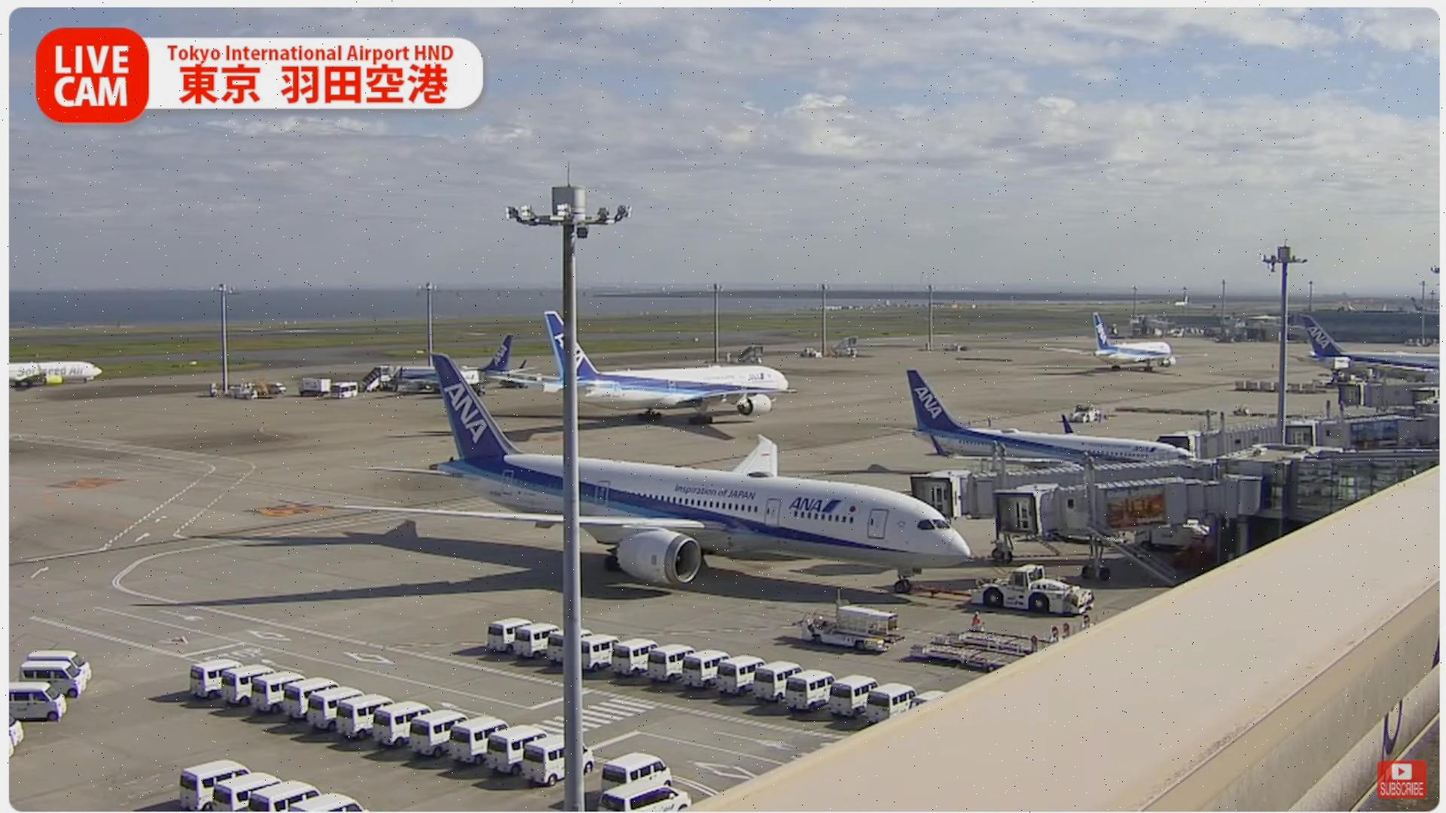APS: (969, 564, 1094, 615)
Aerobridge: (912, 440, 1226, 563), (996, 450, 1258, 587)
Airplane: (332, 354, 971, 593)
JCPL: (912, 627, 1059, 672), (947, 614, 1090, 655)
Skyloader: (798, 604, 904, 652)
Window: (1290, 458, 1438, 523)
